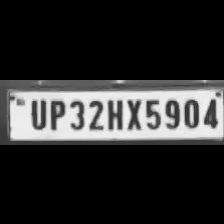0: (180, 94, 200, 128)
2: (86, 96, 104, 130)
3: (65, 96, 85, 130)
4: (200, 94, 220, 128)
5: (142, 94, 162, 130)
9: (162, 96, 180, 128)
H: (104, 96, 124, 130)
P: (45, 95, 65, 129)
U: (26, 96, 48, 130)
X: (123, 96, 143, 130)
